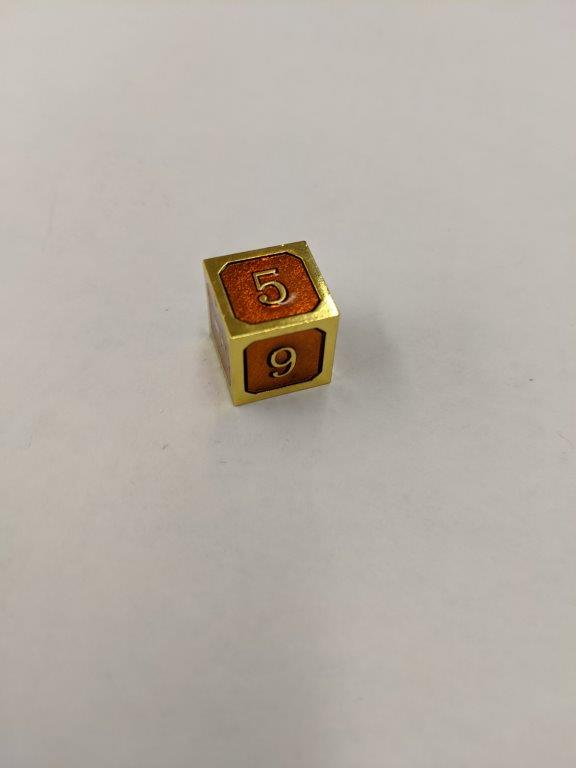d6-5: (202, 237, 340, 404)
